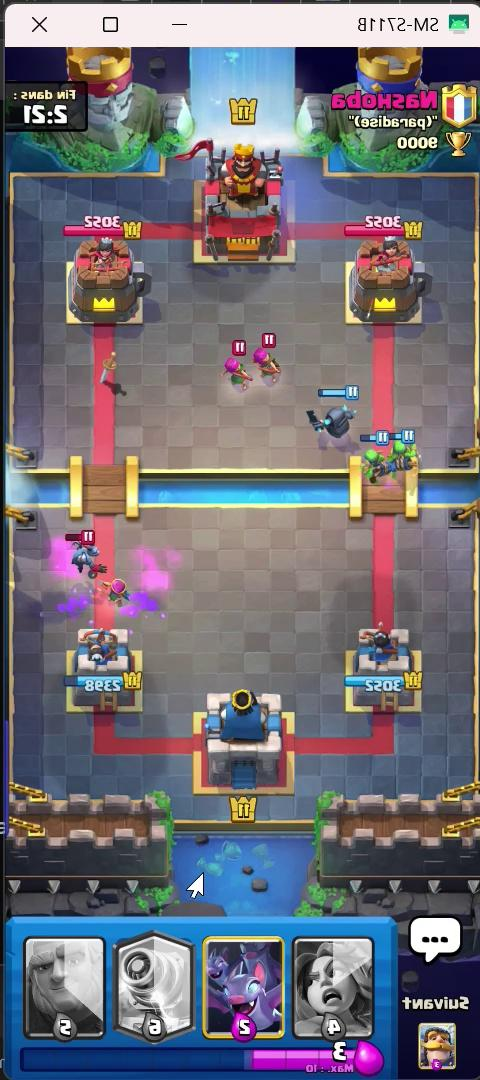archere: (251, 331, 295, 387), (92, 567, 143, 615), (215, 338, 252, 397)
gargouille: (58, 529, 113, 580)
gobelin_lances: (385, 430, 422, 482), (356, 440, 394, 485)
mini_PEKKA: (302, 382, 362, 447)
